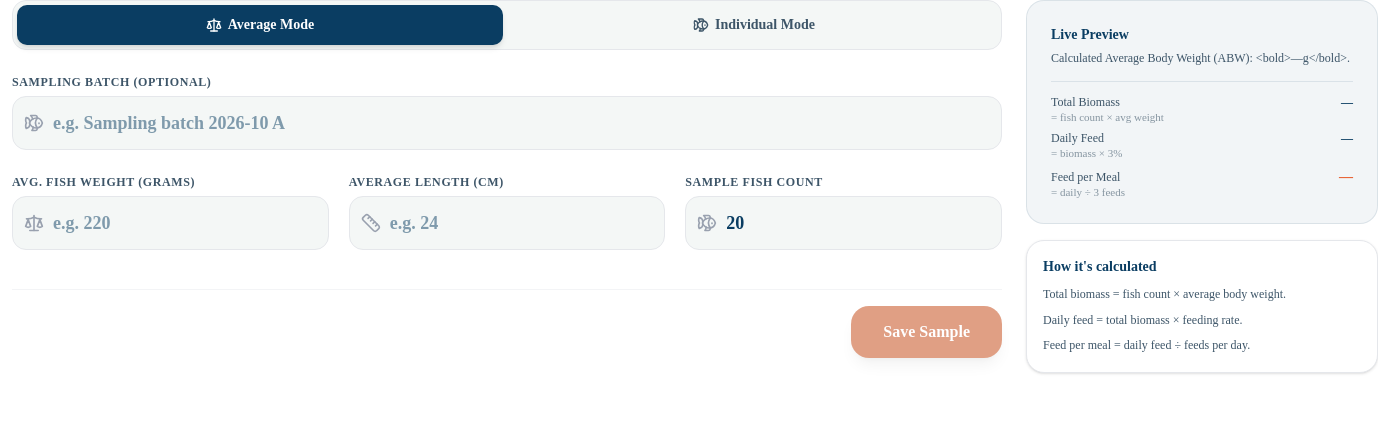
Scenario: biomass result status (#751) › queues a transport failure but not an application error
Type "220" into the number field labelled "Avg. Fish Weight (grams)" at [170, 223], box [12, 196, 329, 250]
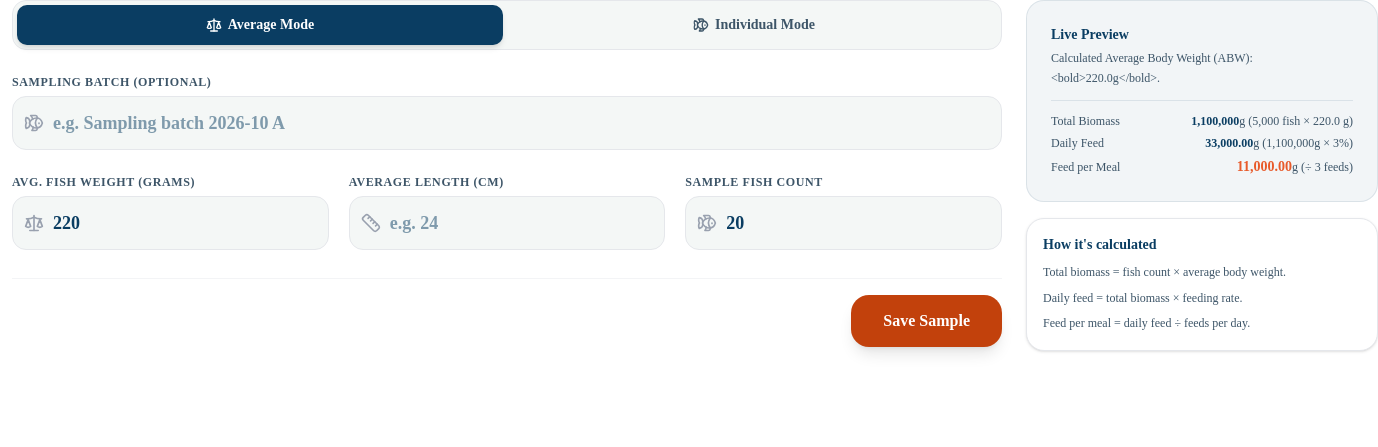
Type "24" into the number field labelled "Average Length (cm)" at [507, 223], box [349, 196, 665, 250]
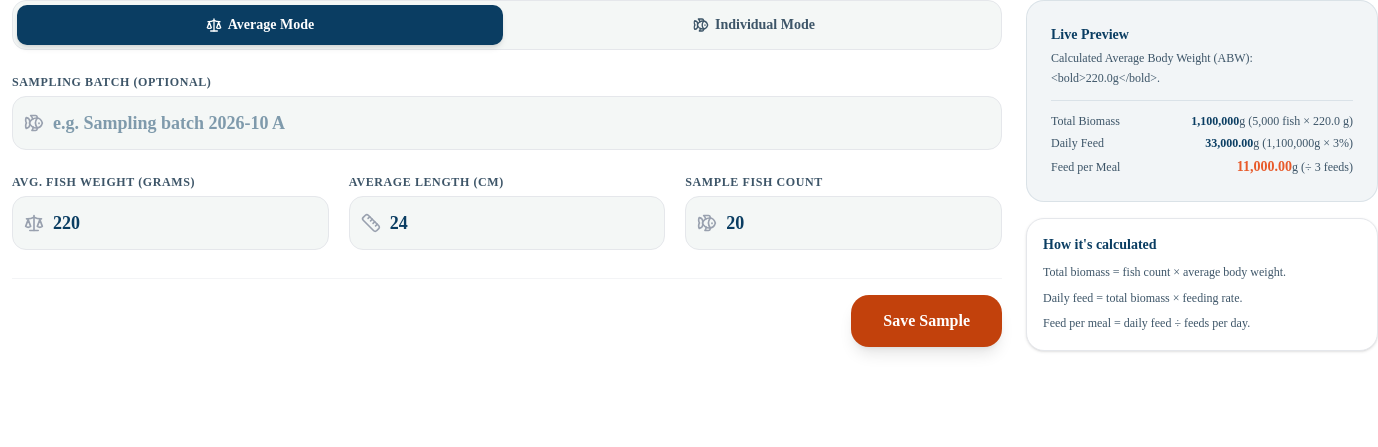
Click the button "Save Sample" at [927, 321], box [851, 295, 1002, 347]
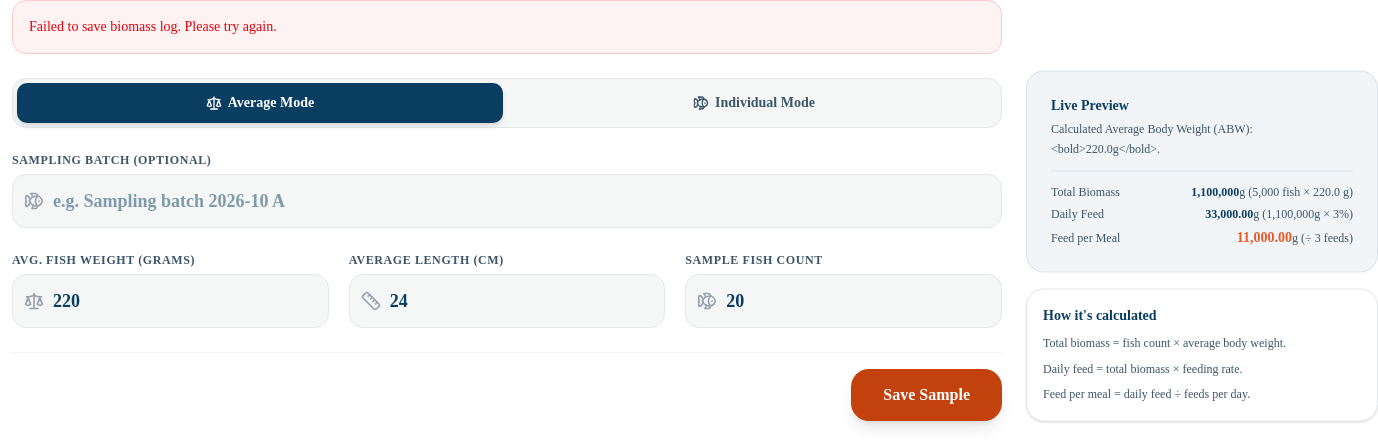
Result: the text "Failed to save biomass log. Please try again." is shown at [12, 0, 1002, 54]
